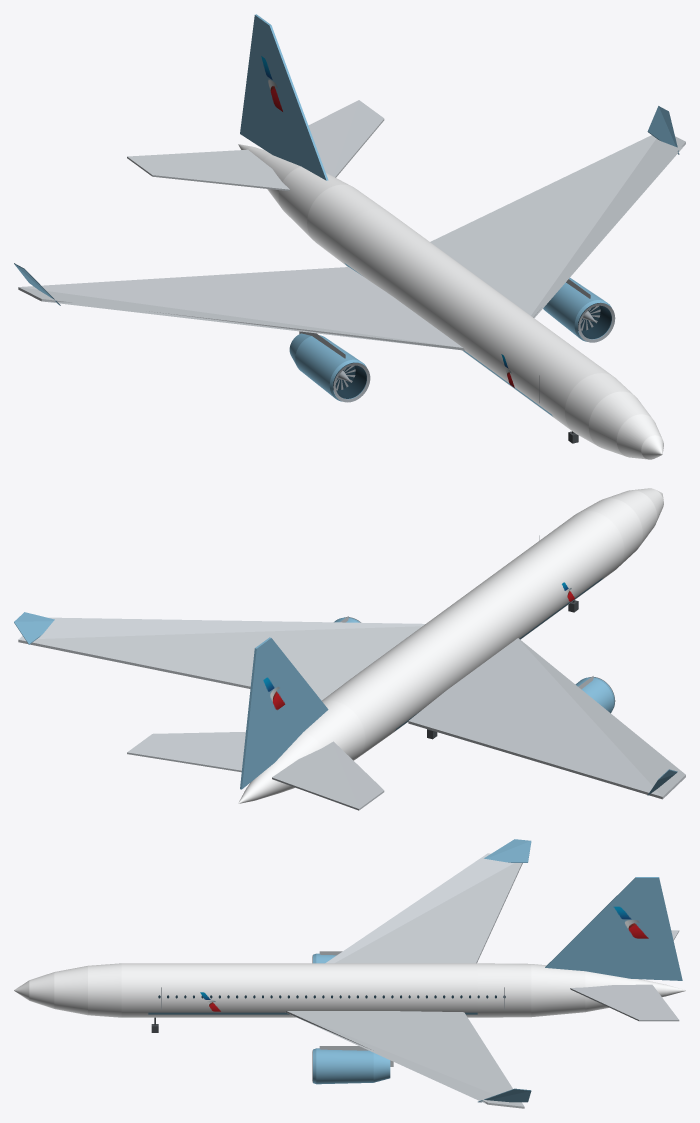
File: a35k-AAL-v3.gltf
The picture shows the model from 3 angles, top to bottom: view 1: azimuth 30°, elevation 25°; view 2: azimuth 150°, elevation 25°; view 3: azimuth 270°, elevation 25°; orthographic projection. The views are drawn at different scales.
Visible parts, largest first — view 1: object 1; view 2: object 1; view 3: object 1.
Boxes of the visible parts, left/top/right/bottom form: object 1: left=14, top=14, right=685, bottom=459; object 1: left=14, top=488, right=685, bottom=810; object 1: left=14, top=839, right=685, bottom=1108.
Size of the model in its own units: 65 by 19.16 by 74.
8 materials, 1 textured.
